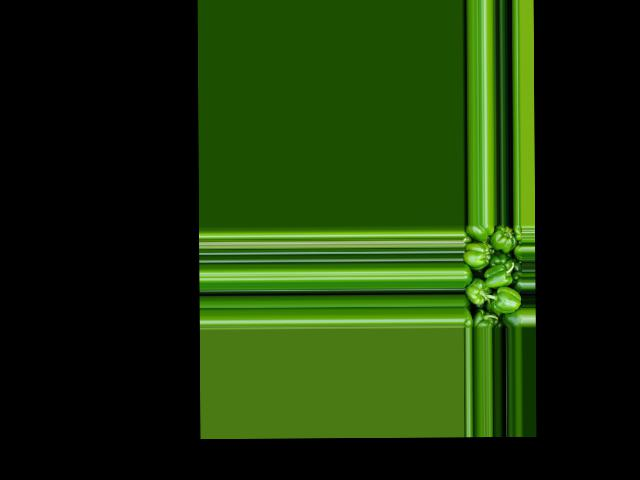bell_pepper: (503, 305, 522, 328)
